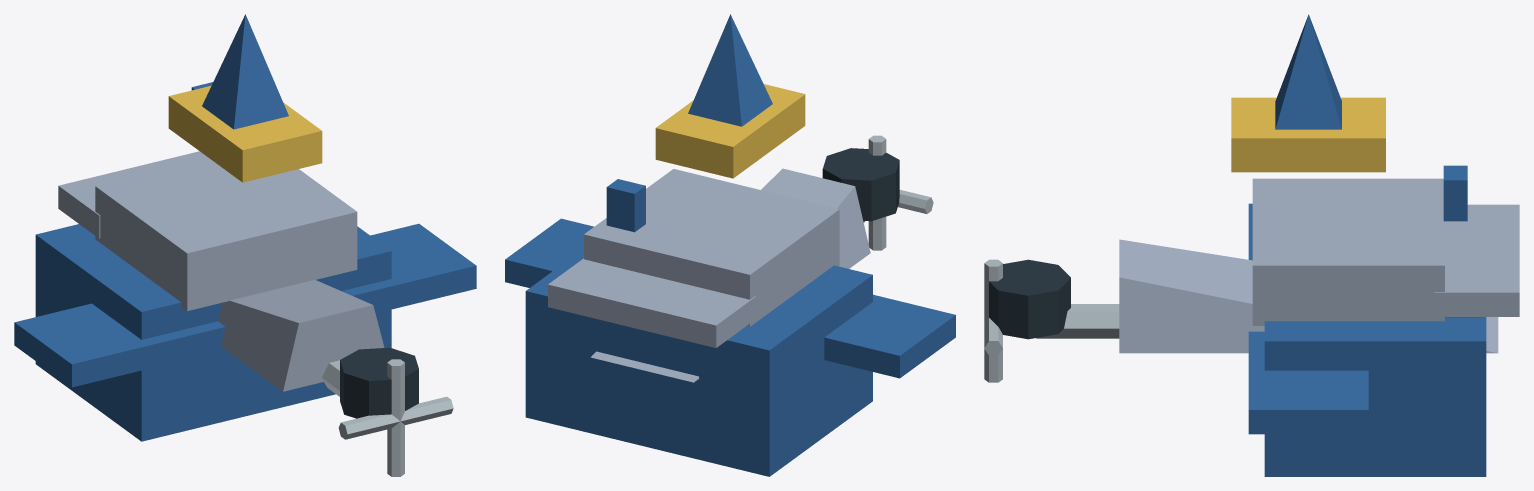
Rendered from air-transport.obj.
3 renders of one model, left to right at view 1: azimuth 30°, elevation 25°; view 2: azimuth 150°, elevation 25°; view 3: azimuth 270°, elevation 25°, orthographic. The views are drawn at different scales.
Parts seen in each view (by area): view 1: air; view 2: air; view 3: air.
Part boxes in pixels (bbox=[...]): air: bbox=[14, 14, 476, 476]; air: bbox=[505, 14, 955, 476]; air: bbox=[984, 14, 1519, 476].
Bounding box in the file's own units: 1.83 × 1.65 × 2.01.
